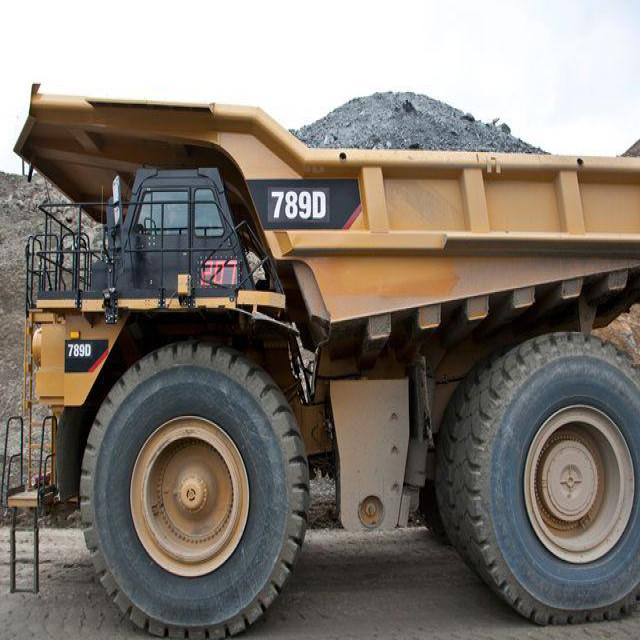dump_truck: (13, 53, 639, 639)
